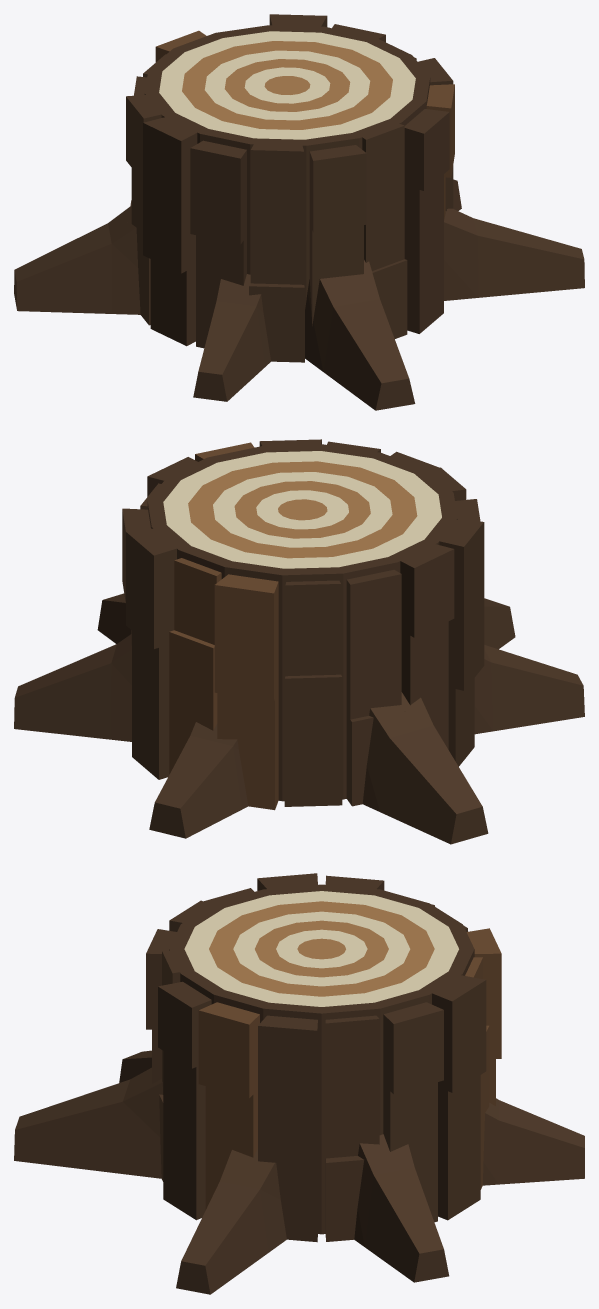
Rendered from mdvl_nature_stump_01.glb.
3 renders of one model, top to bottom at view 1: azimuth 30°, elevation 25°; view 2: azimuth 150°, elevation 25°; view 3: azimuth 270°, elevation 25°, orthographic. The views are drawn at different scales.
Parts seen in each view (by area): view 1: mdvl_nature_stump_01; view 2: mdvl_nature_stump_01; view 3: mdvl_nature_stump_01.
Boxes of the visible parts, left/top/right/bottom form: mdvl_nature_stump_01: left=14, top=14, right=584, bottom=410; mdvl_nature_stump_01: left=14, top=439, right=584, bottom=844; mdvl_nature_stump_01: left=14, top=873, right=584, bottom=1294.
Size of the model in its own units: 1.56 by 0.67 by 1.57.
1 material, 1 textured.
